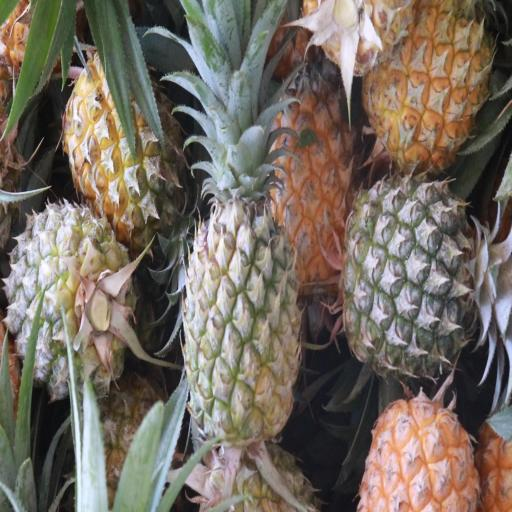------------------------------: (6, 198, 128, 390), (65, 44, 182, 242)
Pineapple - v8 v1: (365, 0, 491, 170), (272, 68, 357, 284), (358, 384, 479, 512)
